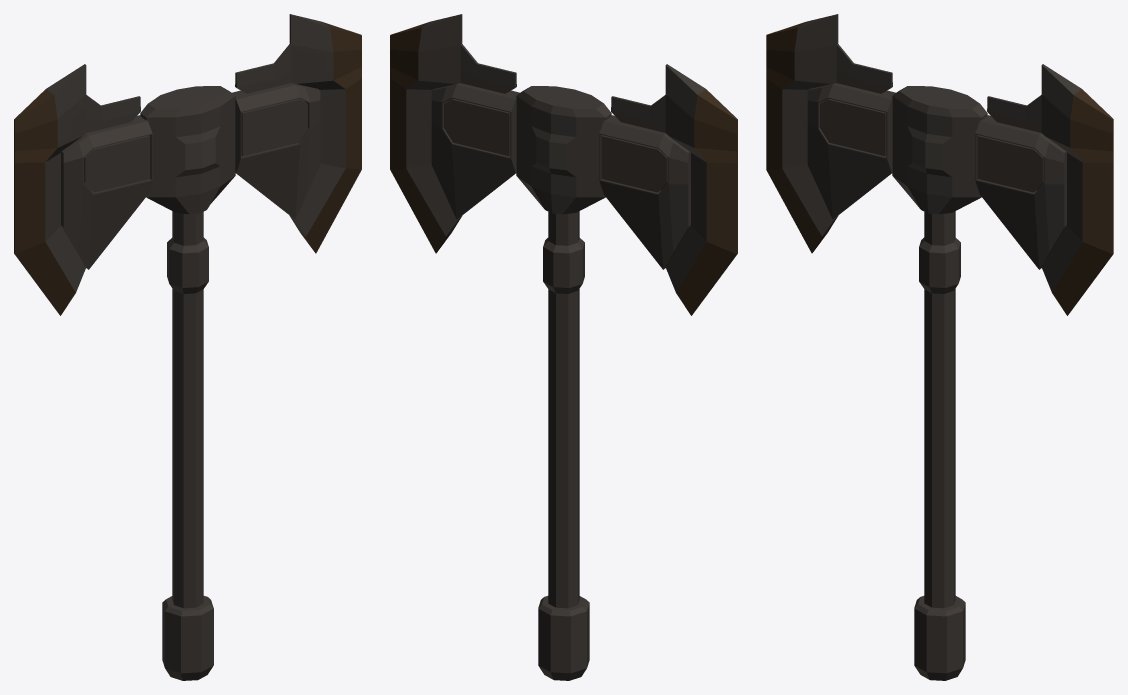
File: shop-item-1008.glb
3 renders of one model, left to right at view 1: azimuth 30°, elevation 25°; view 2: azimuth 150°, elevation 25°; view 3: azimuth 330°, elevation 25°, orthographic.
Parts seen in each view (by area): view 1: one_handed_axe_6; view 2: one_handed_axe_6; view 3: one_handed_axe_6.
Boxes of the visible parts, x1,y1,x2,y2 form: one_handed_axe_6: (14,14,361,680); one_handed_axe_6: (390,14,737,680); one_handed_axe_6: (766,14,1113,680).
Size of the model in its own units: 0.6555 by 1.14 by 0.0955.
Materials: 1 (1 with a texture image).
